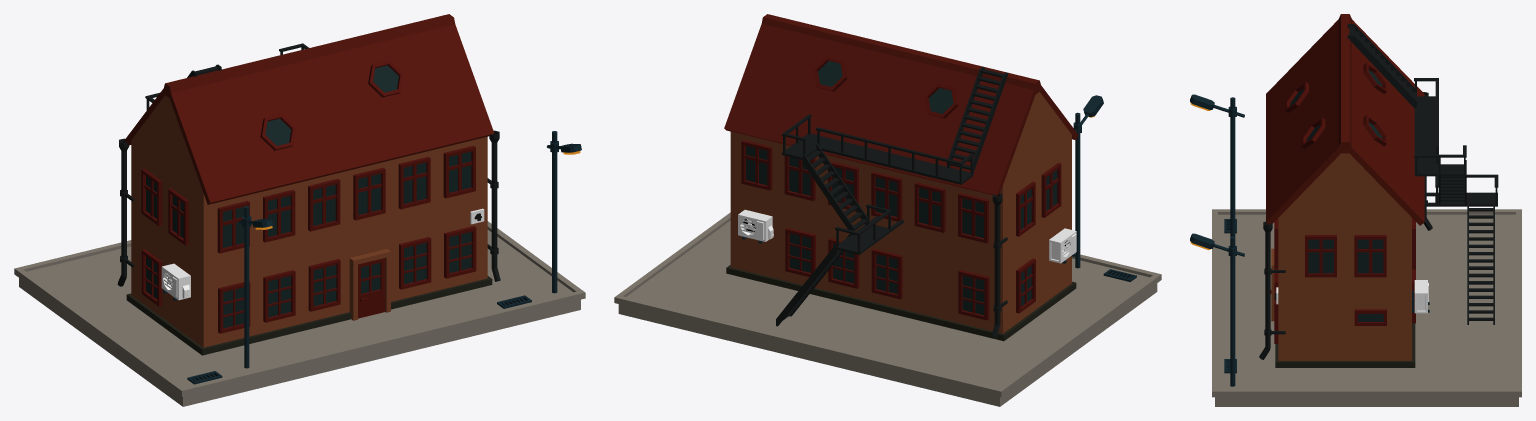
The model's file is House_04.fbx.
3 views of the same model, side by side, from view 1: azimuth 30°, elevation 25°; view 2: azimuth 150°, elevation 25°; view 3: azimuth 270°, elevation 25° (orthographic). The views are drawn at different scales.
Visible parts, largest first — view 1: Object364, Plane099, Box15871, Box15875, Rectangle024, Box15874, Box15877, window_142, window_148, window_150, window_144, window_146 (+18 smaller); view 2: Plane099, Object364, Box15871, Box15875, Rectangle024, Box15874, Plane095, Box15877, StraightStair014, StraightStair013, window_154, window_157 (+20 smaller); view 3: Plane099, Object364, Box15871, Box15875, Rectangle024, Box15877, Plane095, StraightStair012, StraightStair014, window_165, window_163, street_light_006 (+12 smaller).
Part boxes in pixels (x1=…): Object364: x1=124, y1=14, x2=494, y2=204; Plane099: x1=19, y1=230, x2=580, y2=406; Box15871: x1=131, y1=204, x2=487, y2=347; Box15875: x1=131, y1=136, x2=487, y2=273; Rectangle024: x1=14, y1=221, x2=585, y2=396; Box15874: x1=126, y1=276, x2=492, y2=355; Box15877: x1=131, y1=95, x2=203, y2=192; window_142: x1=443, y1=145, x2=475, y2=198; window_148: x1=308, y1=259, x2=340, y2=311; window_150: x1=263, y1=270, x2=295, y2=322; window_144: x1=398, y1=156, x2=430, y2=209; window_146: x1=353, y1=167, x2=385, y2=220; Plane099: x1=618, y1=220, x2=1157, y2=406; Object364: x1=724, y1=14, x2=1078, y2=196; Box15871: x1=730, y1=196, x2=1071, y2=333; Box15875: x1=730, y1=131, x2=1071, y2=262; Rectangle024: x1=614, y1=212, x2=1161, y2=397; Box15874: x1=726, y1=265, x2=1076, y2=341; Plane095: x1=782, y1=133, x2=973, y2=184; Box15877: x1=1003, y1=92, x2=1071, y2=185; StraightStair014: x1=947, y1=66, x2=1007, y2=173; StraightStair013: x1=803, y1=143, x2=868, y2=235; window_154: x1=958, y1=270, x2=989, y2=320; window_157: x1=871, y1=249, x2=902, y2=299; Plane099: x1=1215, y1=214, x2=1518, y2=406; Object364: x1=1266, y1=14, x2=1424, y2=225; Box15871: x1=1278, y1=292, x2=1411, y2=360; Box15875: x1=1278, y1=218, x2=1411, y2=292; Rectangle024: x1=1212, y1=209, x2=1521, y2=397; Box15877: x1=1279, y1=153, x2=1411, y2=217; Plane095: x1=1414, y1=96, x2=1466, y2=176; StraightStair012: x1=1467, y1=201, x2=1494, y2=324; StraightStair014: x1=1347, y1=24, x2=1416, y2=108; window_165: x1=1354, y1=235, x2=1386, y2=277; window_163: x1=1305, y1=235, x2=1336, y2=277; street_light_006: x1=1190, y1=233, x2=1244, y2=386.
Size of the model in its own units: 1420 by 876 by 1093.
